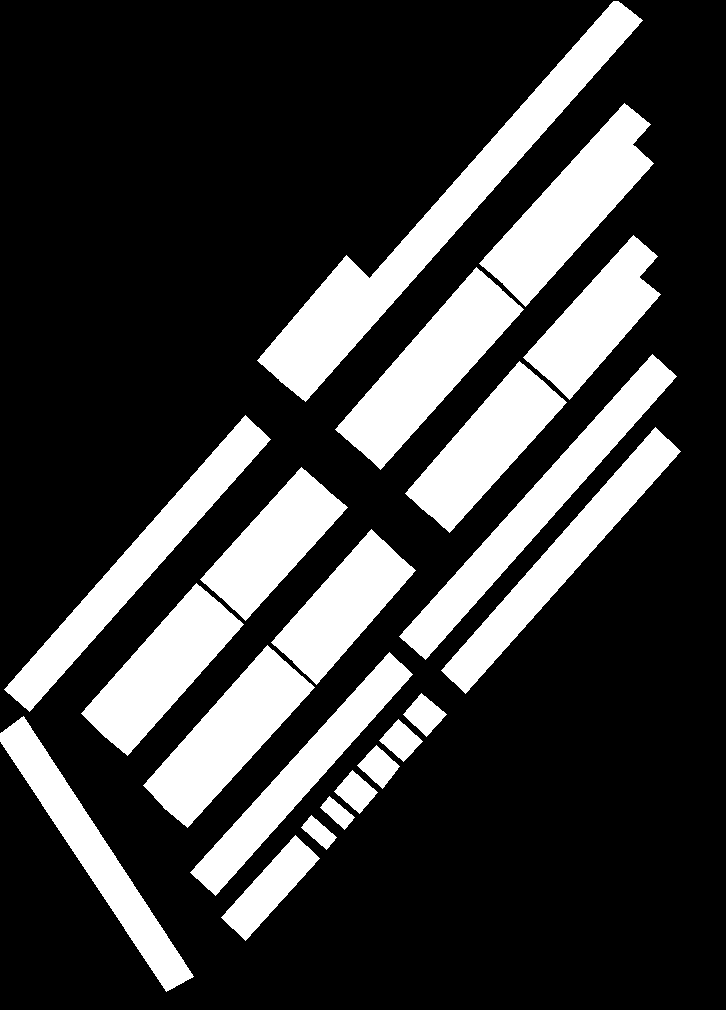parkingspot: (279, 1, 642, 401), (399, 354, 676, 659), (4, 415, 270, 711), (441, 427, 680, 693), (190, 652, 412, 895), (0, 716, 193, 991), (479, 103, 650, 285), (335, 267, 501, 450), (357, 287, 523, 469), (503, 141, 653, 306), (163, 665, 314, 827), (143, 645, 291, 809), (81, 583, 222, 736), (102, 602, 243, 755), (405, 361, 545, 514), (426, 380, 566, 532), (523, 235, 657, 379), (200, 467, 325, 601), (223, 486, 347, 620), (271, 529, 394, 663), (293, 549, 415, 684), (257, 255, 371, 382), (546, 274, 660, 399), (221, 835, 319, 940), (403, 693, 446, 736), (334, 770, 377, 813), (379, 719, 422, 761), (357, 745, 399, 788), (301, 815, 336, 849), (320, 796, 354, 829)
